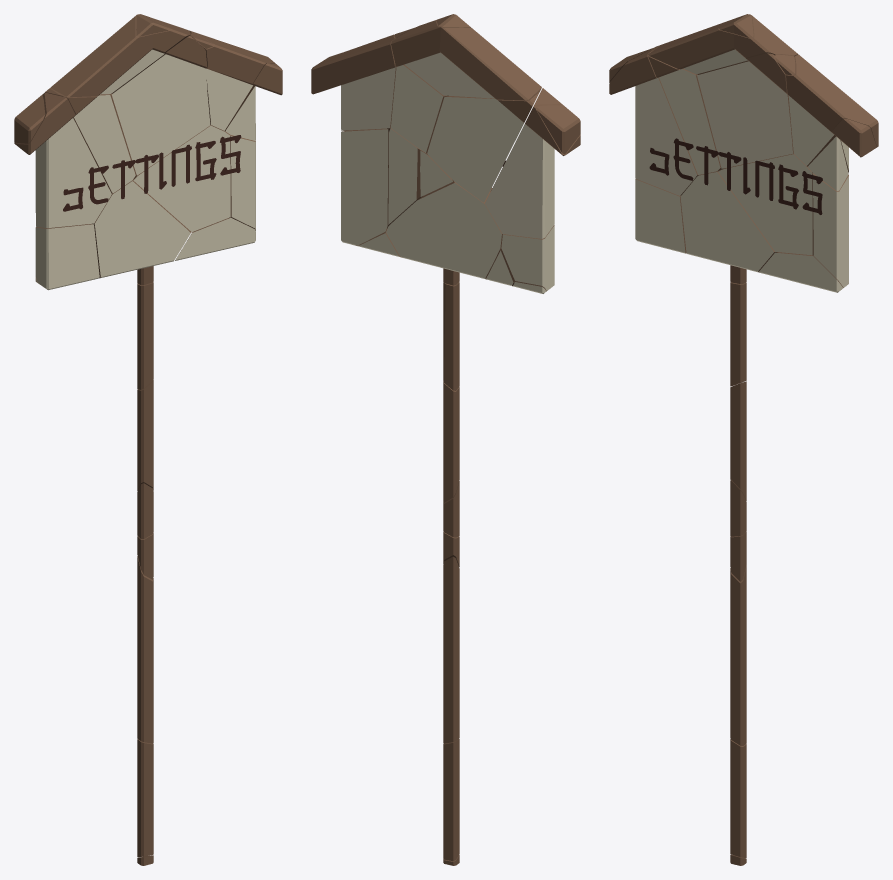
The model's file is bsign-housesettings 1.fbx.
The picture shows the model from 3 angles, left to right: view 1: azimuth 30°, elevation 25°; view 2: azimuth 150°, elevation 25°; view 3: azimuth 330°, elevation 25°; orthographic projection.
Parts seen in each view (by area): view 1: sign_settings01.001_cell.019, sign_settings01.001_cell.036, sign_settings01.009, sign_settings01.001_cell.018, sign_settings01.001_cell.024, sign_settings01.001_cell.040, sign_settings01.001_cell.020, sign_settings01.001_cell.004, sign_settings01.001_cell.007, sign_settings01.001_cell.029, sign_settings01.001_cell.001, sign_settings01.001_cell.027 (+6 smaller); view 2: sign_settings01.001_cell.018, sign_settings01.001_cell.024, sign_settings01.001_cell.040, sign_settings01.001_cell.036, sign_settings01.001_cell.020, sign_settings01.001_cell.029, sign_settings01.001_cell.007, sign_settings01.001_cell.019, sign_settings01.001_cell.004, sign_settings01.009, sign_settings01.001_cell.001, sign_settings01.001_cell.032 (+4 smaller); view 3: sign_settings01.001_cell.019, sign_settings01.009, sign_settings01.001_cell.018, sign_settings01.001_cell.036, sign_settings01.001_cell.020, sign_settings01.001_cell.024, sign_settings01.001_cell.040, sign_settings01.001_cell.029, sign_settings01.001_cell.004, sign_settings01.001_cell.007, sign_settings01.001_cell.016, sign_settings01.001_cell.001 (+5 smaller).
Part boxes in pixels (bbox=[...]): sign_settings01.001_cell.019: bbox=[111, 36, 210, 175]; sign_settings01.001_cell.036: bbox=[14, 92, 111, 227]; sign_settings01.009: bbox=[133, 125, 241, 231]; sign_settings01.001_cell.018: bbox=[92, 179, 191, 285]; sign_settings01.001_cell.024: bbox=[50, 14, 191, 97]; sign_settings01.001_cell.040: bbox=[45, 88, 136, 199]; sign_settings01.001_cell.020: bbox=[189, 30, 274, 131]; sign_settings01.001_cell.004: bbox=[35, 224, 99, 290]; sign_settings01.001_cell.007: bbox=[137, 556, 153, 743]; sign_settings01.001_cell.029: bbox=[222, 130, 255, 230]; sign_settings01.001_cell.001: bbox=[137, 739, 153, 857]; sign_settings01.001_cell.027: bbox=[175, 217, 255, 260]; sign_settings01.001_cell.018: bbox=[386, 180, 502, 285]; sign_settings01.001_cell.024: bbox=[391, 20, 541, 100]; sign_settings01.001_cell.040: bbox=[427, 88, 541, 202]; sign_settings01.001_cell.036: bbox=[485, 88, 580, 238]; sign_settings01.001_cell.020: bbox=[311, 34, 396, 130]; sign_settings01.001_cell.029: bbox=[341, 128, 388, 245]; sign_settings01.001_cell.007: bbox=[443, 556, 459, 743]; sign_settings01.001_cell.019: bbox=[391, 64, 448, 153]; sign_settings01.001_cell.004: bbox=[501, 225, 554, 291]; sign_settings01.009: bbox=[387, 127, 427, 228]; sign_settings01.001_cell.001: bbox=[443, 739, 459, 861]; sign_settings01.001_cell.032: bbox=[443, 381, 459, 502]; sign_settings01.001_cell.019: bbox=[697, 53, 793, 168]; sign_settings01.009: bbox=[718, 152, 822, 255]; sign_settings01.001_cell.018: bbox=[680, 170, 777, 283]; sign_settings01.001_cell.036: bbox=[609, 47, 698, 195]; sign_settings01.001_cell.020: bbox=[786, 54, 878, 172]; sign_settings01.001_cell.024: bbox=[648, 14, 798, 74]; sign_settings01.001_cell.040: bbox=[648, 45, 724, 185]; sign_settings01.001_cell.029: bbox=[812, 172, 848, 287]; sign_settings01.001_cell.004: bbox=[635, 178, 686, 253]; sign_settings01.001_cell.007: bbox=[730, 565, 746, 746]; sign_settings01.001_cell.016: bbox=[808, 118, 876, 190]; sign_settings01.001_cell.001: bbox=[730, 739, 746, 857].
Bounding box in the file's own units: 78.58 × 248 × 9.52.
